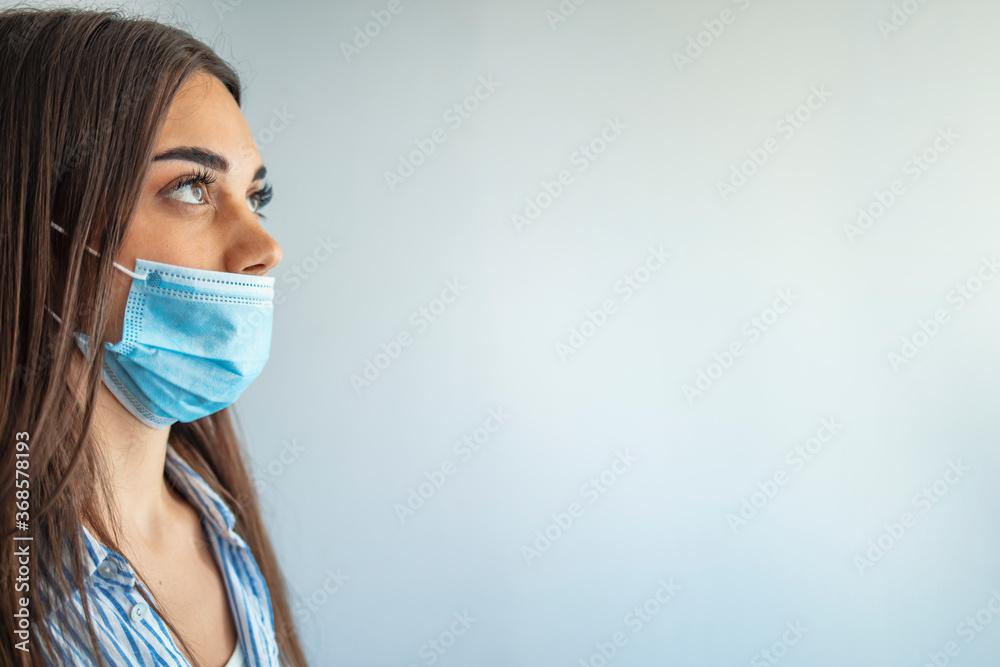WRONG: (112, 140, 292, 425)
